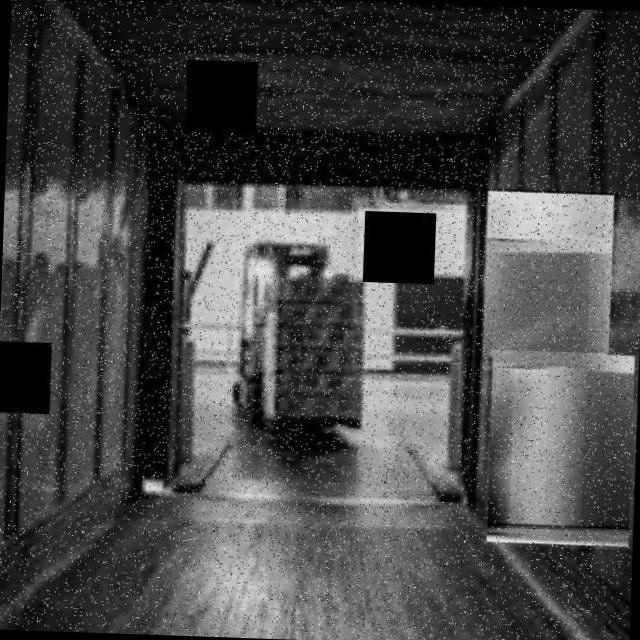box: (484, 349, 638, 550), (479, 188, 618, 366)
